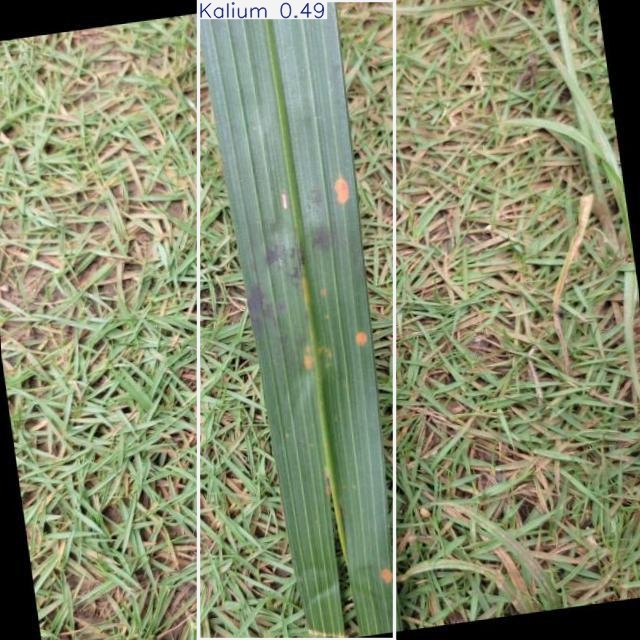Kalium: (199, 1, 395, 639)
